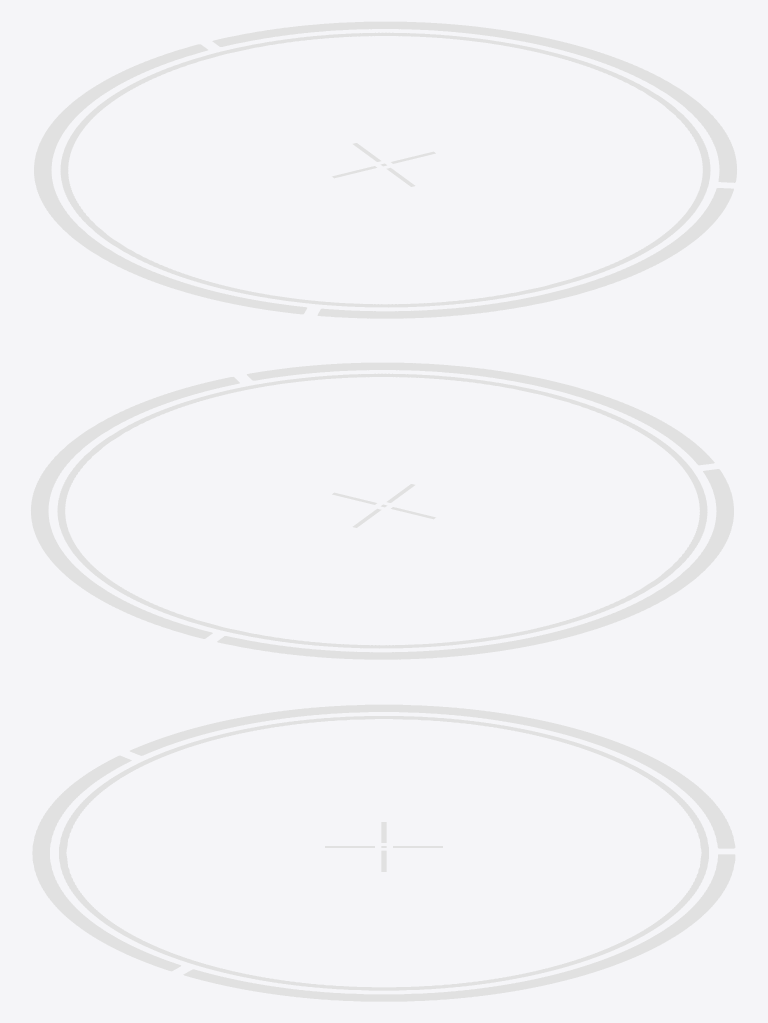
The picture shows the model from 3 angles, top to bottom: view 1: azimuth 30°, elevation 25°; view 2: azimuth 150°, elevation 25°; view 3: azimuth 270°, elevation 25°; orthographic projection.
Parts seen in each view (by area): view 1: Cylinder02_1X1; view 2: Cylinder02_1X1; view 3: Cylinder02_1X1.
Part boxes in pixels (x1=…): Cylinder02_1X1: x1=34, y1=21, x2=736, y2=318; Cylinder02_1X1: x1=31, y1=362, x2=733, y2=659; Cylinder02_1X1: x1=32, y1=704, x2=735, y2=1001.
Bounding box in the file's own units: 100 × 0.8255 × 100.
